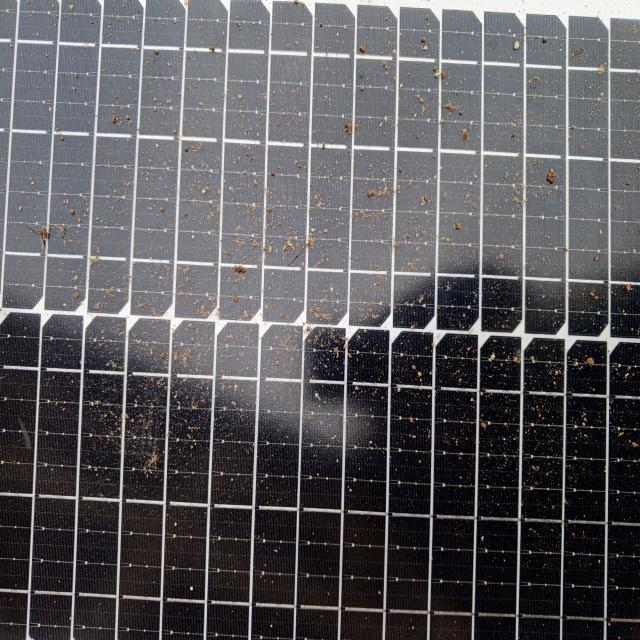Surface Contaminant: (7, 1, 625, 620)
